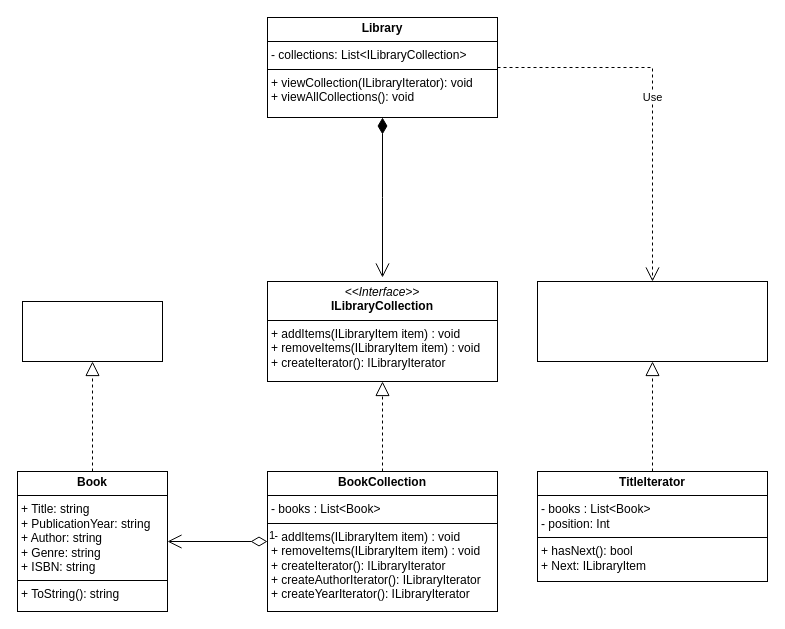
Image size: 785x629. Some labels were removed from this diagram. The box of each missing label's shape, as (x1, y1, x2, y2) in pixels:
<<Interface>> ILibrarayIterator + hasNext(): bool + Next: ILibraryItem: (536, 280, 768, 362)
<<Interface>> ILibraryItem + Title: string: (22, 300, 162, 362)
